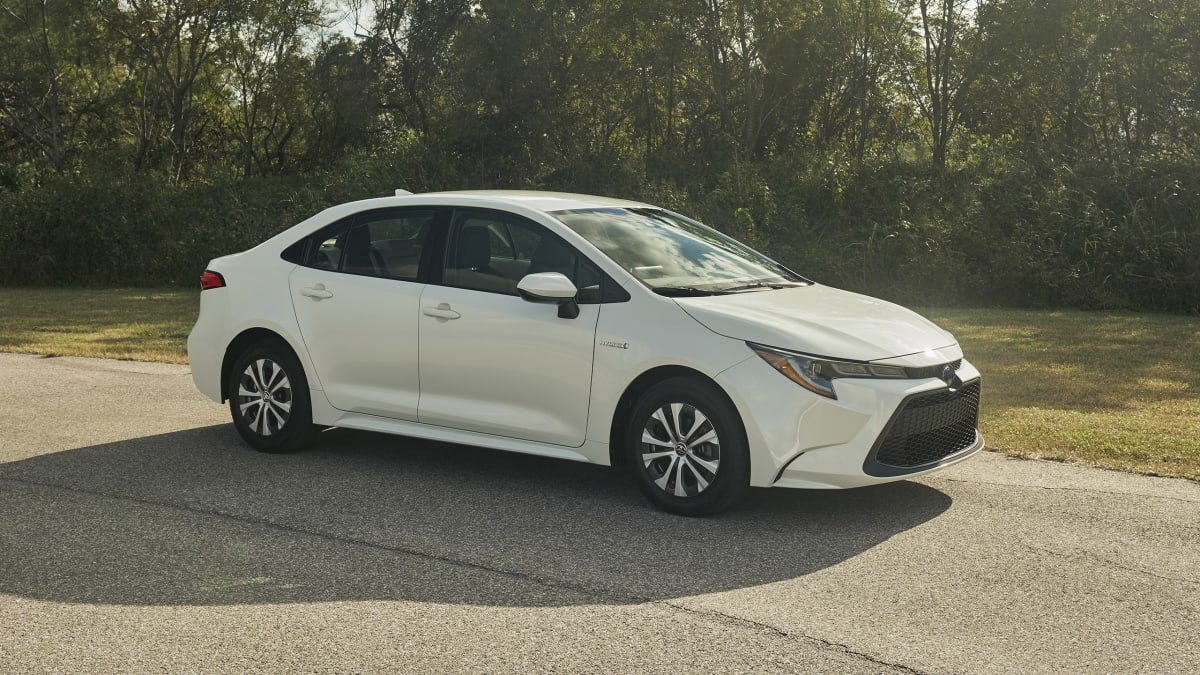car: (185, 185, 986, 517)
